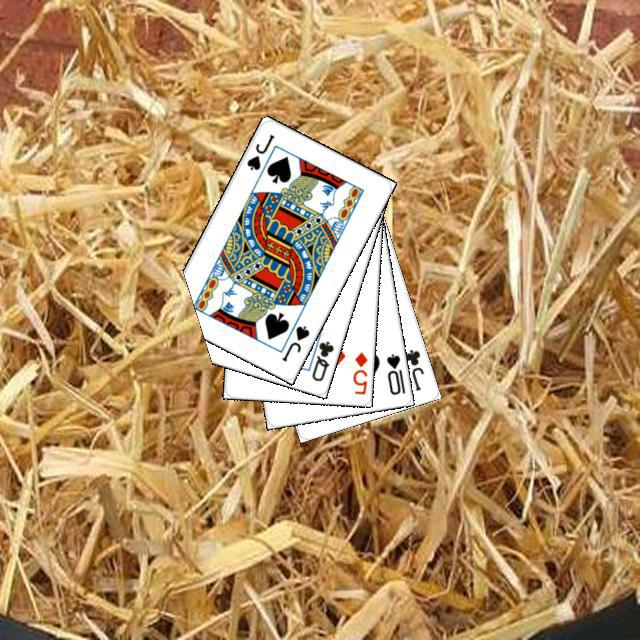10s: (381, 349, 407, 397)
5d: (348, 347, 369, 396)
Jc: (400, 344, 426, 393)
Js: (242, 129, 276, 172), (277, 321, 311, 363)
Qc: (301, 329, 335, 383)
